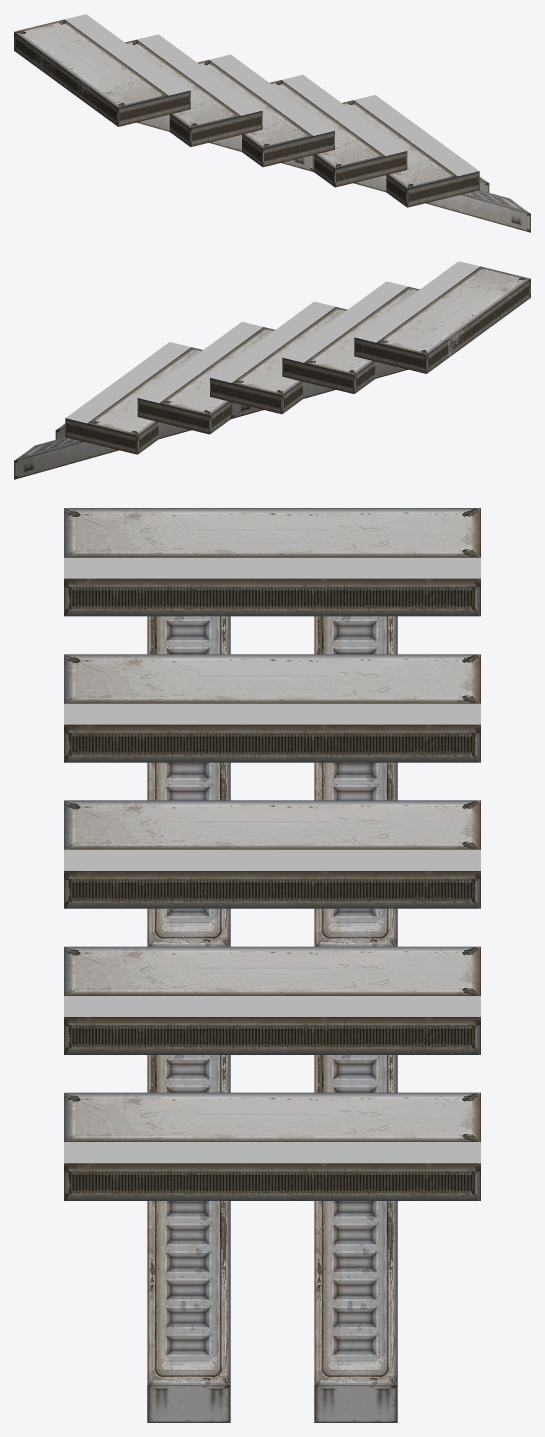
File: scifi_stairs_3.FBX
3 views of the same model, one above another, from view 1: azimuth 30°, elevation 25°; view 2: azimuth 150°, elevation 25°; view 3: azimuth 270°, elevation 25° (orthographic). The views are drawn at different scales.
Parts seen in each view (by area): view 1: Plane356; view 2: Plane356; view 3: Plane356.
Boxes of the visible parts, left/top/right/bottom form: Plane356: left=14, top=14, right=530, bottom=232; Plane356: left=14, top=261, right=530, bottom=479; Plane356: left=64, top=508, right=480, bottom=1422.
Bounding box in the file's own units: 305 × 165 × 127.
